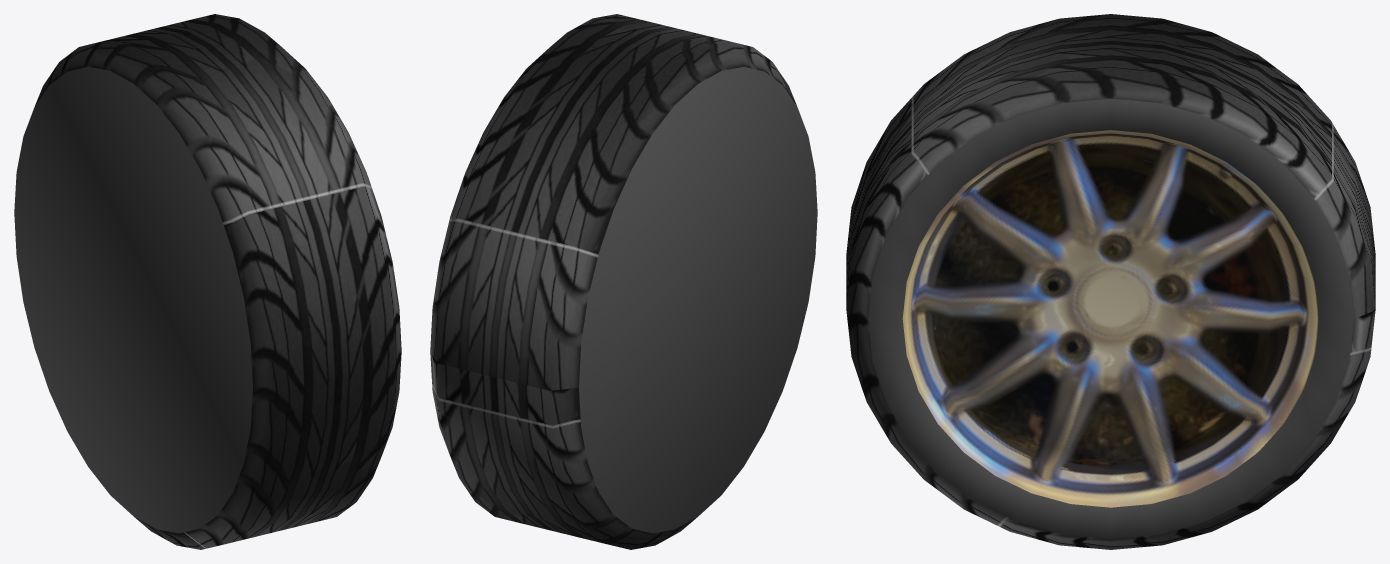
The model's file is wheel11.fbx.
The picture shows the model from 3 angles, left to right: view 1: azimuth 30°, elevation 25°; view 2: azimuth 150°, elevation 25°; view 3: azimuth 270°, elevation 25°; orthographic projection.
Visible parts, largest first — view 1: Cylinder; view 2: Cylinder; view 3: Cylinder.
Boxes of the visible parts, x1,y1,x2,y2 form: Cylinder: (14, 14, 401, 549); Cylinder: (430, 14, 817, 549); Cylinder: (846, 14, 1375, 549).
Size of the model in its own units: 64.69 by 196 by 196.
1 material, 1 textured.
